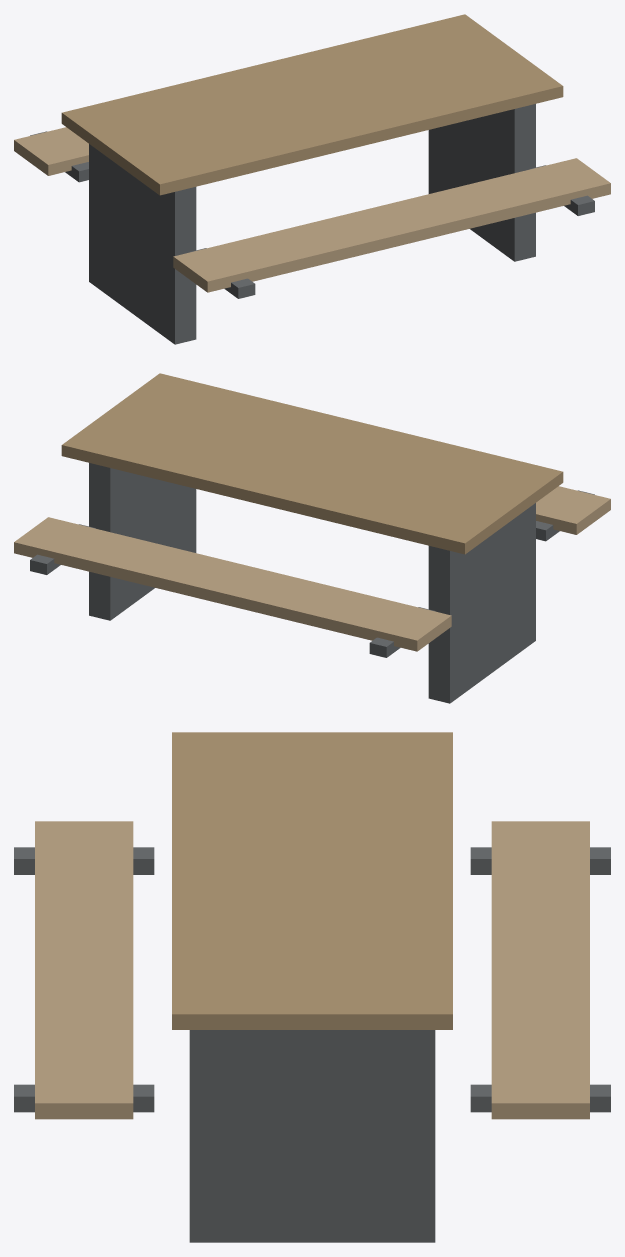
Rendered from bench_table.glb.
3 views of the same model, one above another, from view 1: azimuth 30°, elevation 25°; view 2: azimuth 150°, elevation 25°; view 3: azimuth 270°, elevation 25° (orthographic). The views are drawn at different scales.
Size of the model in its own units: 1.9 by 0.765 by 1.7.
